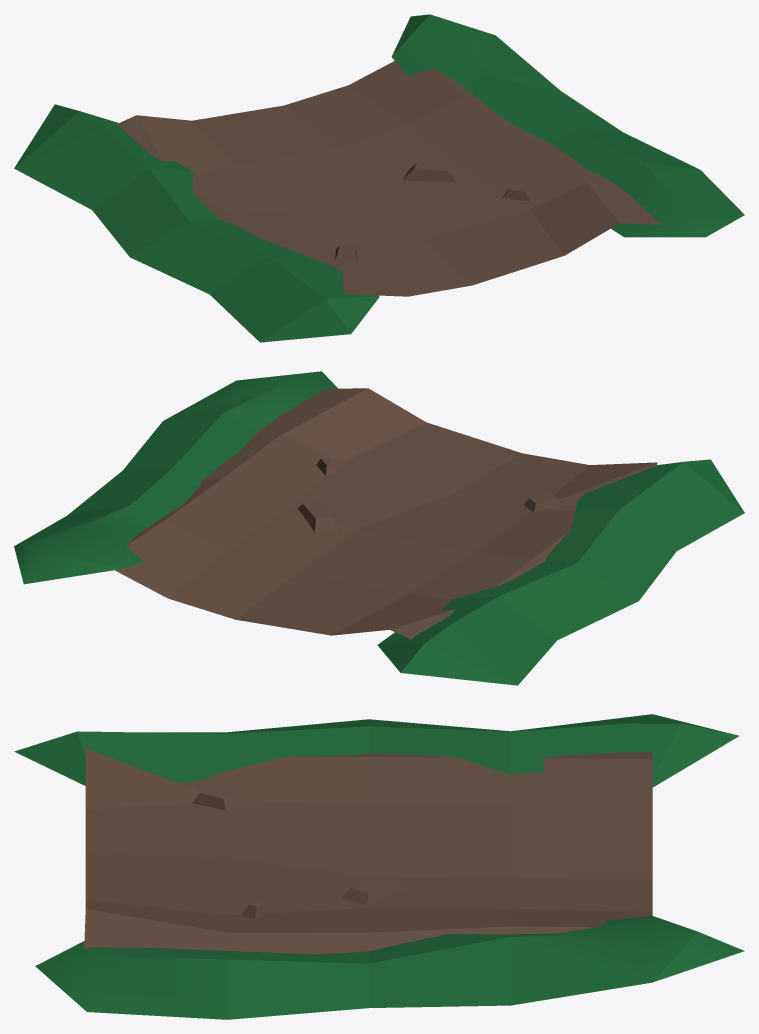
Rendered from path_straight01.fbx.
3 renders of one model, top to bottom at view 1: azimuth 30°, elevation 25°; view 2: azimuth 150°, elevation 25°; view 3: azimuth 270°, elevation 25°, orthographic. The views are drawn at different scales.
Visible parts, largest first — view 1: path_straight01; view 2: path_straight01; view 3: path_straight01.
Boxes of the visible parts, x1,y1,x2,y2 form: path_straight01: (14,14,744,342); path_straight01: (14,371,744,685); path_straight01: (14,714,744,1019).
Bounding box in the file's own units: 4.91 × 0.3886 × 4.95.
